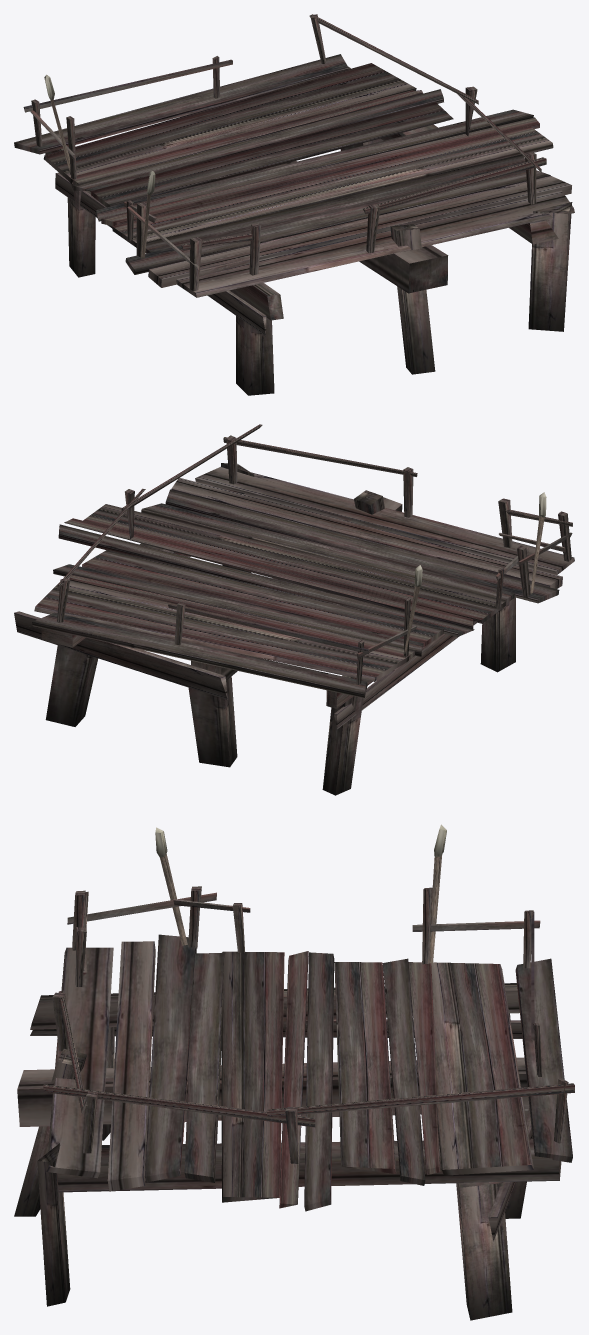
The model's file is pir_m_prp_swm_platform.fbx.
3 views of the same model, one above another, from view 1: azimuth 30°, elevation 25°; view 2: azimuth 150°, elevation 25°; view 3: azimuth 270°, elevation 25° (orthographic). The views are drawn at different scales.
Parts seen in each view (by area): view 1: TablePlank54, TablePlank43, TablePlank56, TablePlank48, TablePlank41, TablePlank55, TablePlank46, TablePlank53, TablePlank42, TablePlank49, walkwayPost4, TablePlank45 (+15 smaller); view 2: TablePlank54, TablePlank43, TablePlank56, TablePlank48, TablePlank42, TablePlank55, TablePlank41, TablePlank53, TablePlank46, TablePlank58, TablePlank45, TablePlank49 (+16 smaller); view 3: TablePlank54, TablePlank43, TablePlank48, TablePlank56, TablePlank41, TablePlank42, TablePlank53, TablePlank46, TablePlank55, plank15, plank14, TablePlank49 (+17 smaller).
Part boxes in pixels (x1,y1,x2,y2): TablePlank54: [43, 63, 416, 183]; TablePlank43: [112, 126, 553, 247]; TablePlank56: [176, 190, 574, 297]; TablePlank48: [91, 102, 453, 207]; TablePlank41: [148, 175, 571, 287]; TablePlank55: [14, 54, 348, 154]; TablePlank46: [96, 109, 533, 221]; TablePlank53: [145, 154, 525, 253]; TablePlank42: [125, 170, 550, 274]; TablePlank49: [73, 89, 443, 190]; walkwayPost4: [528, 202, 572, 331]; TablePlank45: [101, 117, 539, 226]; TablePlank54: [34, 580, 409, 681]; TablePlank43: [83, 504, 506, 623]; TablePlank56: [195, 466, 574, 574]; TablePlank48: [82, 549, 443, 647]; TablePlank42: [165, 489, 559, 603]; TablePlank55: [32, 612, 367, 698]; TablePlank41: [171, 478, 562, 588]; TablePlank53: [141, 503, 514, 603]; TablePlank46: [58, 524, 474, 636]; TablePlank58: [14, 611, 227, 699]; TablePlank45: [64, 518, 473, 628]; TablePlank49: [53, 564, 422, 656]; TablePlank54: [431, 962, 534, 1175]; TablePlank43: [221, 951, 284, 1202]; TablePlank48: [334, 962, 396, 1173]; TablePlank56: [46, 947, 113, 1178]; TablePlank41: [107, 941, 155, 1191]; TablePlank42: [145, 934, 196, 1182]; TablePlank53: [184, 952, 224, 1182]; TablePlank46: [304, 952, 334, 1211]; TablePlank55: [515, 958, 572, 1162]; plank15: [57, 1139, 561, 1192]; plank14: [456, 1182, 512, 1320]; TablePlank49: [382, 958, 425, 1185].
Bounding box in the file's own units: 5378 × 2596 × 4700.
Materials: 2 (2 with a texture image).
